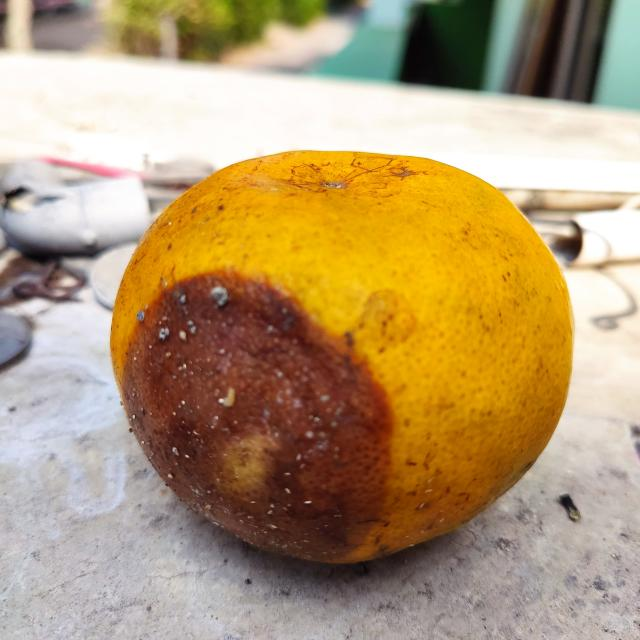orange: (109, 146, 575, 573)
